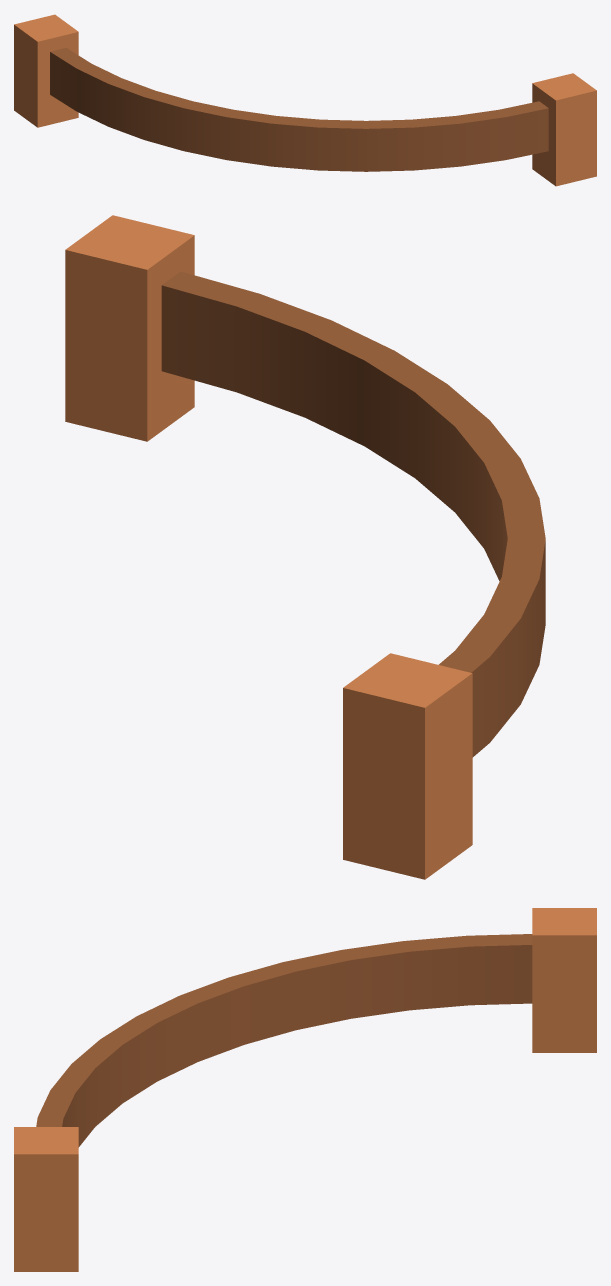
File: fenceLowCornerCurved.obj
The picture shows the model from 3 angles, top to bottom: view 1: azimuth 30°, elevation 25°; view 2: azimuth 150°, elevation 25°; view 3: azimuth 270°, elevation 25°; orthographic projection. The views are drawn at different scales.
Visible parts, largest first — view 1: fenceLowCornerCurved; view 2: fenceLowCornerCurved; view 3: fenceLowCornerCurved.
Boxes of the visible parts, x1,y1,x2,y2 form: fenceLowCornerCurved: [14, 14, 596, 186]; fenceLowCornerCurved: [65, 215, 545, 879]; fenceLowCornerCurved: [14, 908, 596, 1271].
Bounding box in the file's own units: 0.9 × 0.2 × 0.9.
